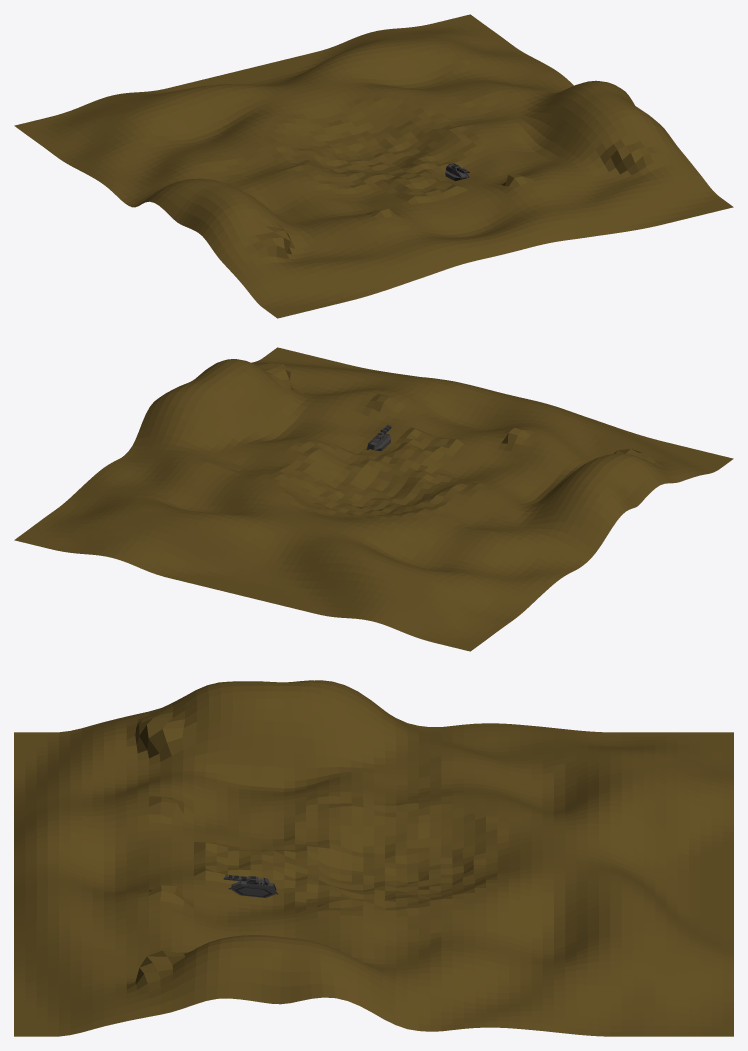
3 renders of one model, top to bottom at view 1: azimuth 30°, elevation 25°; view 2: azimuth 150°, elevation 25°; view 3: azimuth 270°, elevation 25°, orthographic. The views are drawn at different scales.
Visible parts, largest first — view 1: Plane; view 2: Plane; view 3: Plane, tank.
Part boxes in pixels (bbox=[...]): Plane: bbox=[14, 14, 733, 318]; Plane: bbox=[14, 347, 733, 651]; Plane: bbox=[14, 680, 733, 1036]; tank: bbox=[223, 875, 278, 897].
Bounding box in the file's own units: 118 × 12.6 × 115.
